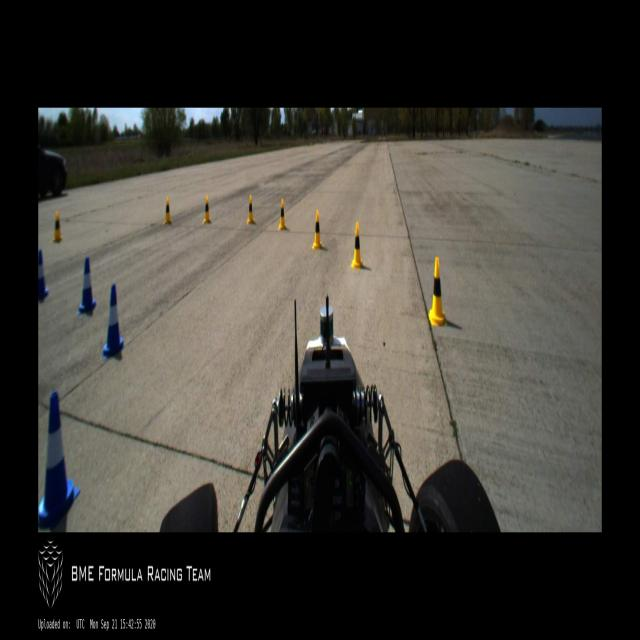blue_cone: (38, 392, 80, 529), (102, 282, 124, 360), (77, 256, 96, 317), (39, 250, 50, 302)
yellow_cone: (428, 257, 448, 328), (351, 222, 363, 268), (312, 209, 323, 249), (52, 209, 64, 244), (278, 197, 288, 230), (246, 193, 256, 225), (202, 194, 212, 224), (163, 196, 173, 226)
